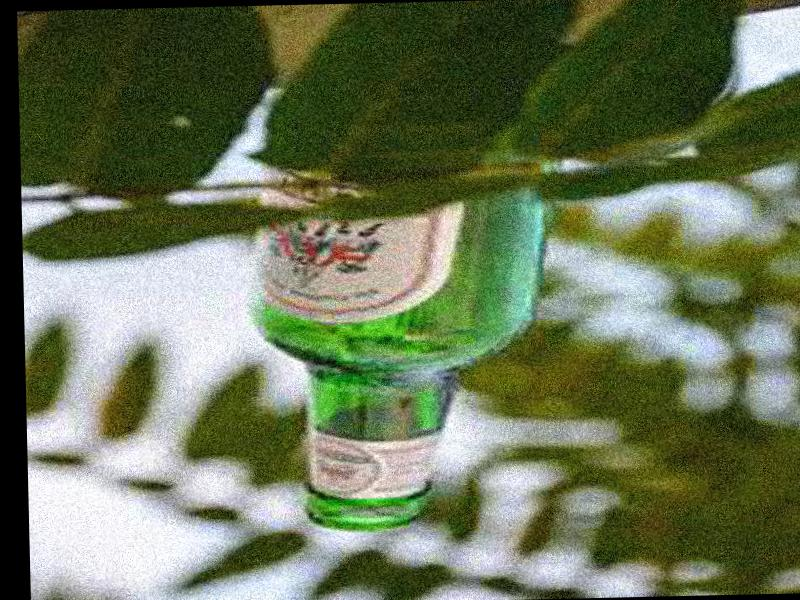Beer: (251, 153, 549, 533)
